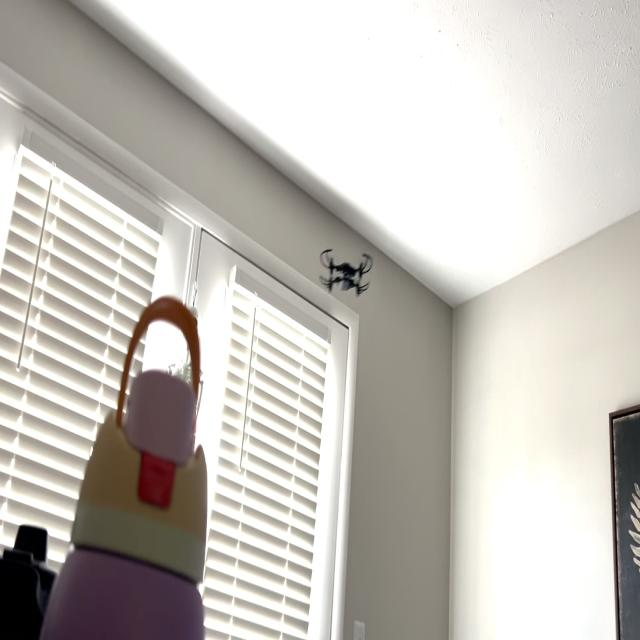drone: (312, 226, 378, 310)
